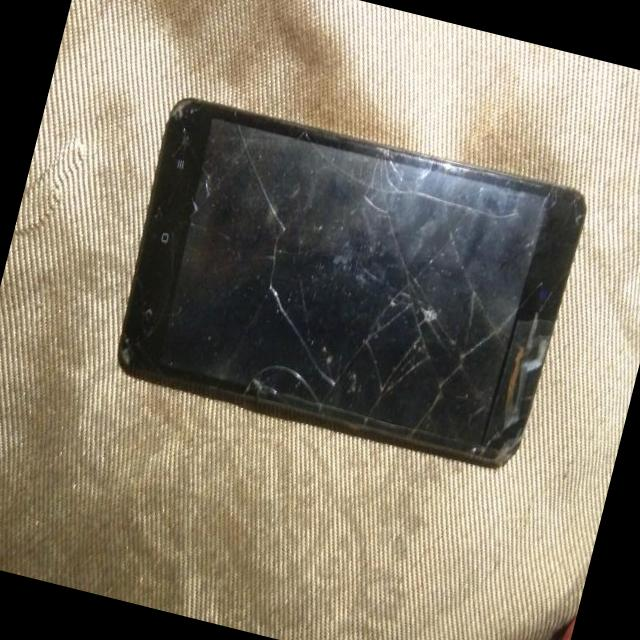screen crack: (112, 94, 592, 480)
